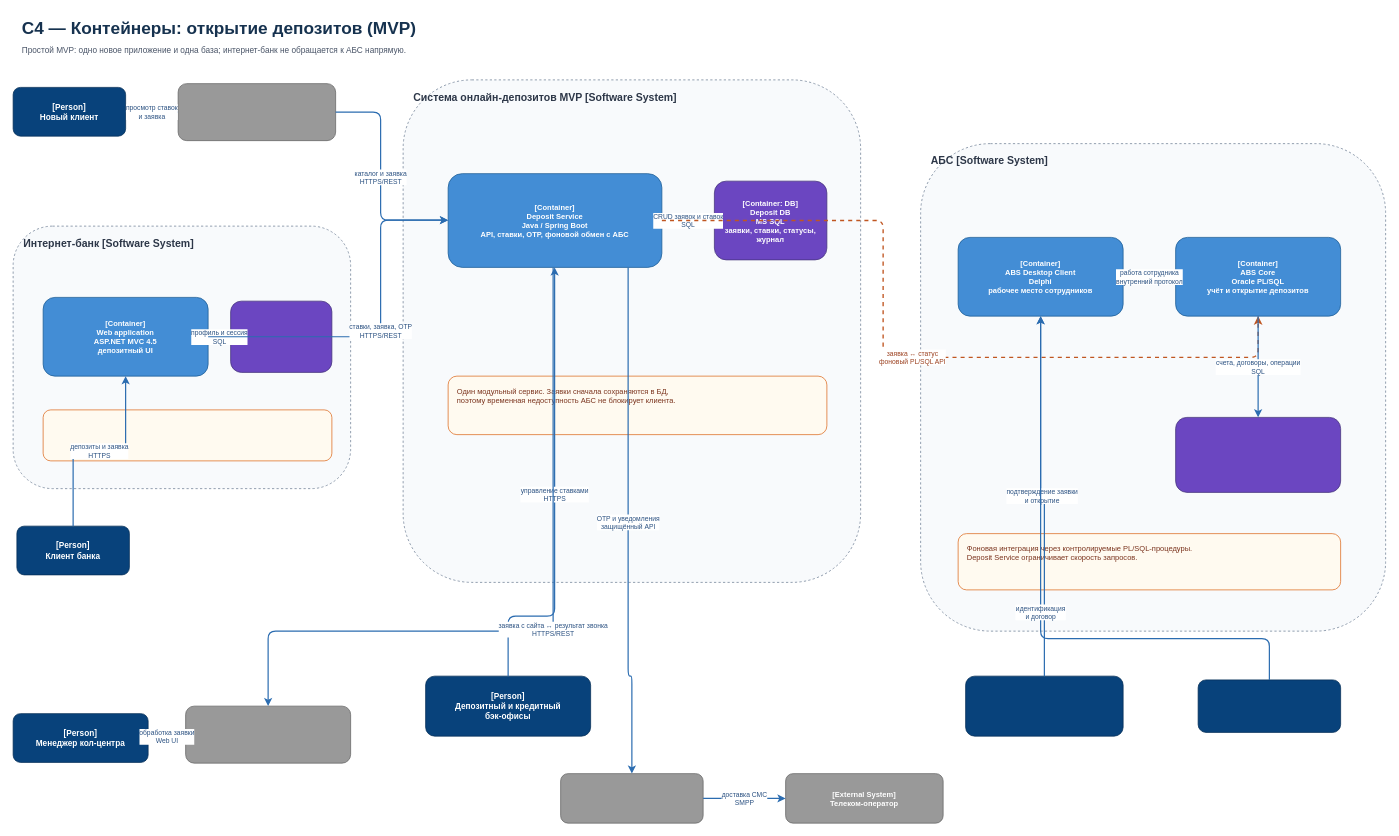
Image size: 1399x836. Some labels were removed from this diagram. Here are the shapes that lost their labels. From the top down, the centre of each, then its label:
At pixel 256 112: "[Existing System] Сайт банка PHP + React".
At pixel 281 336: "[Container: DB] Internet Bank DB MS SQL профиль и сессии".
At pixel 187 435: "Только HTTPS/REST к Deposit Service. Нет доступа к API или БД АБС.".
At pixel 1258 454: "[Container: DB] ABS DB Oracle счета, договоры, операции".
At pixel 1044 705: "[Person] Менеджер депозитного бэк-офиса".
At pixel 1269 705: "[Person] Сотрудник отделения".
At pixel 268 734: "[Existing System] Система кол-центра".
At pixel 631 798: "[Existing System] СМС-шлюз".
